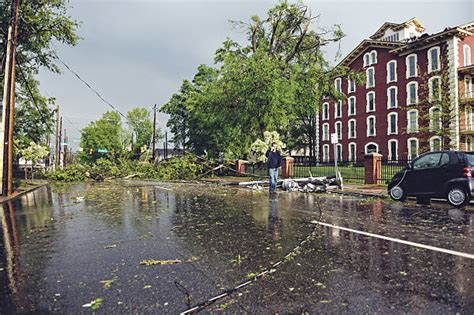pole: (2, 1, 21, 200), (149, 101, 162, 160)
